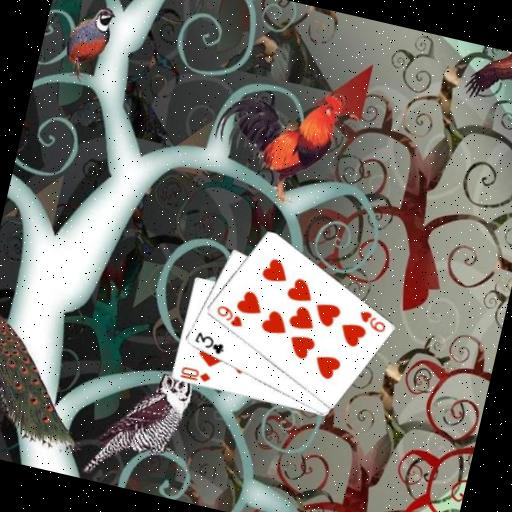10D: (176, 363, 213, 385)
3C: (190, 328, 229, 357)
9H: (211, 301, 247, 331), (354, 307, 391, 336)
